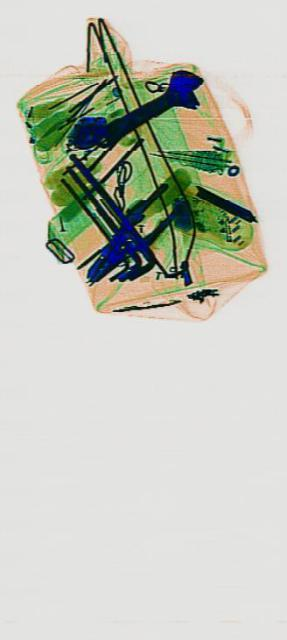Pliers: (84, 175, 175, 301)
Wrench: (91, 51, 206, 171)
